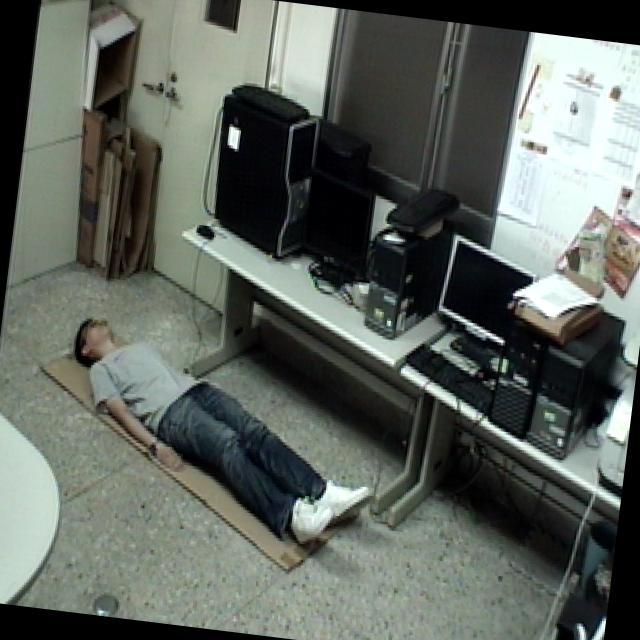lie: (48, 307, 404, 562)
